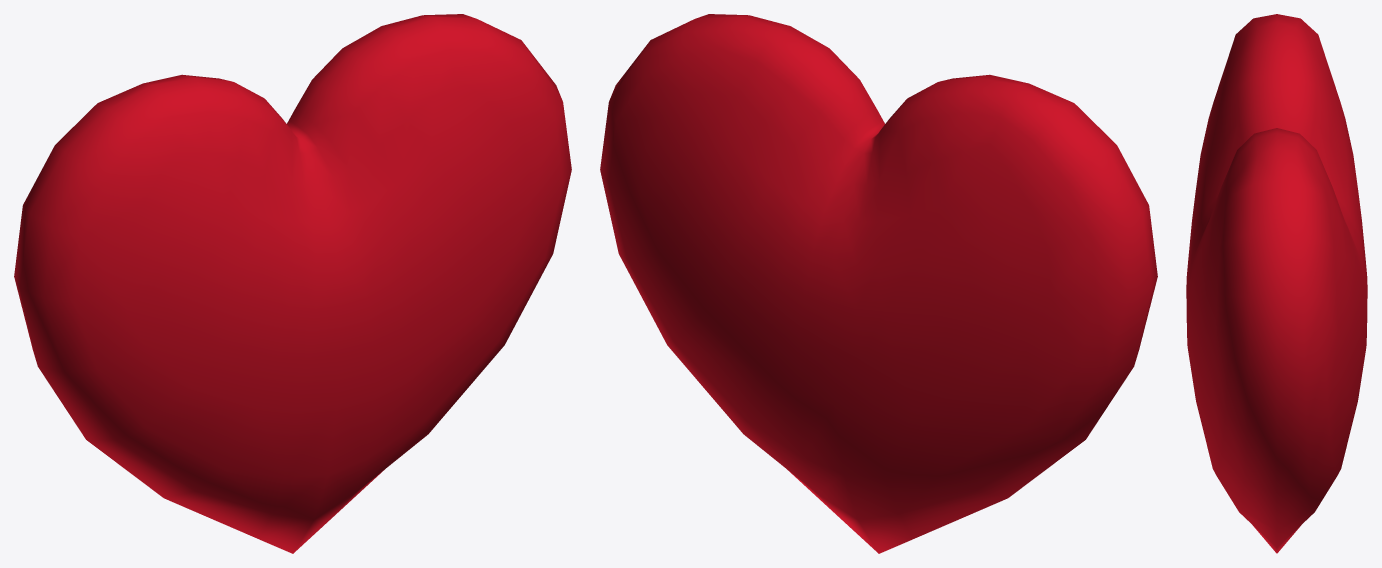
Rendered from heart.gltf.
The picture shows the model from 3 angles, left to right: view 1: azimuth 30°, elevation 25°; view 2: azimuth 150°, elevation 25°; view 3: azimuth 270°, elevation 25°; orthographic projection. The views are drawn at different scales.
Visible parts, largest first — view 1: Heart Shape; view 2: Heart Shape; view 3: Heart Shape.
Part boxes in pixels (x1,y1,x2,y2): Heart Shape: (14,14,571,553); Heart Shape: (600,14,1157,553); Heart Shape: (1186,14,1367,553).
Size of the model in its own units: 0.2561 by 0.2253 by 0.0791.
